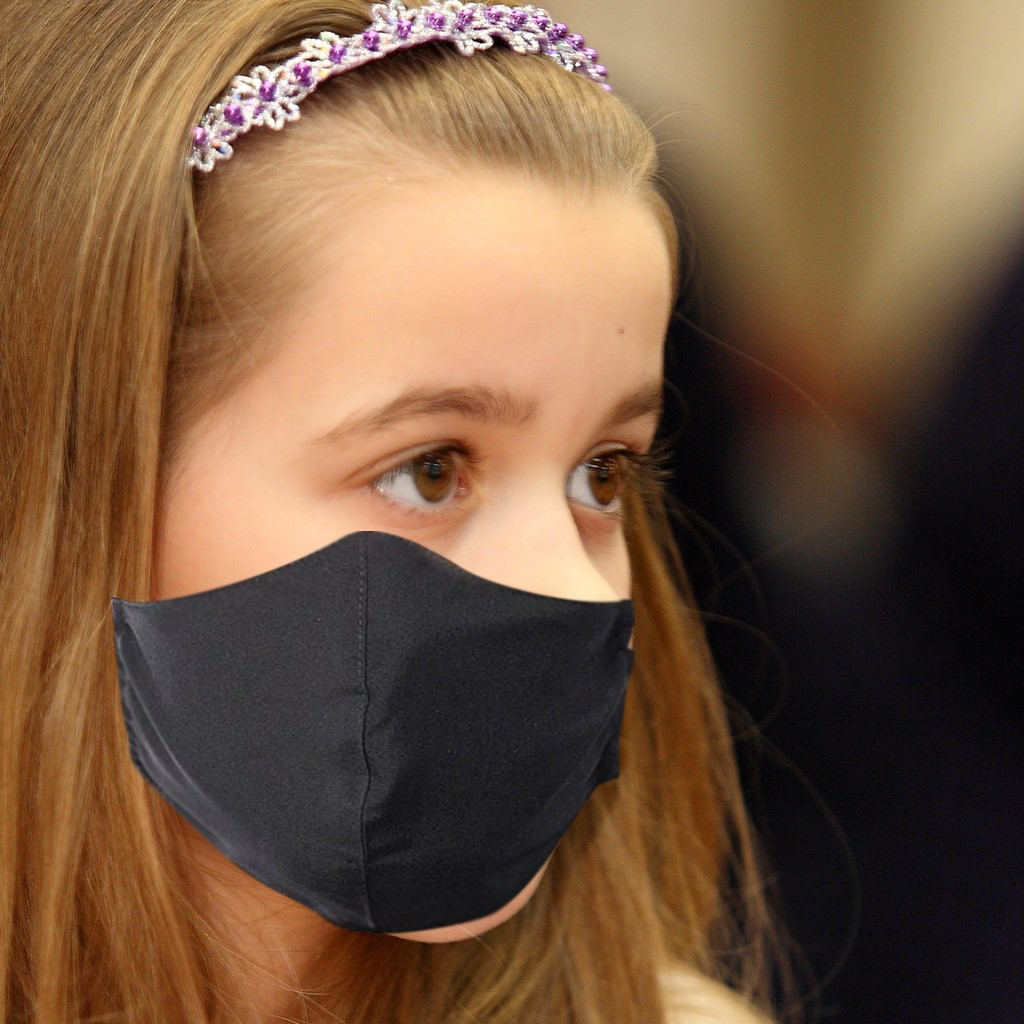con_mascara: (123, 100, 684, 952)
